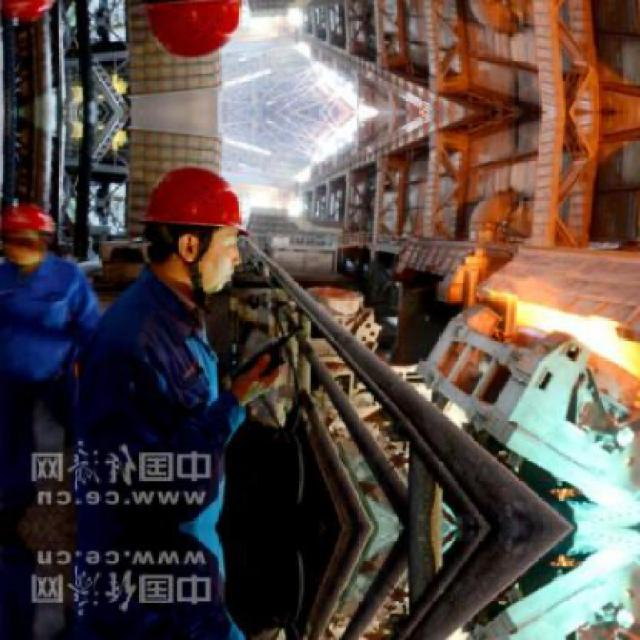helmet: (138, 156, 252, 292), (137, 0, 252, 68), (3, 203, 55, 263), (1, 0, 56, 20)
